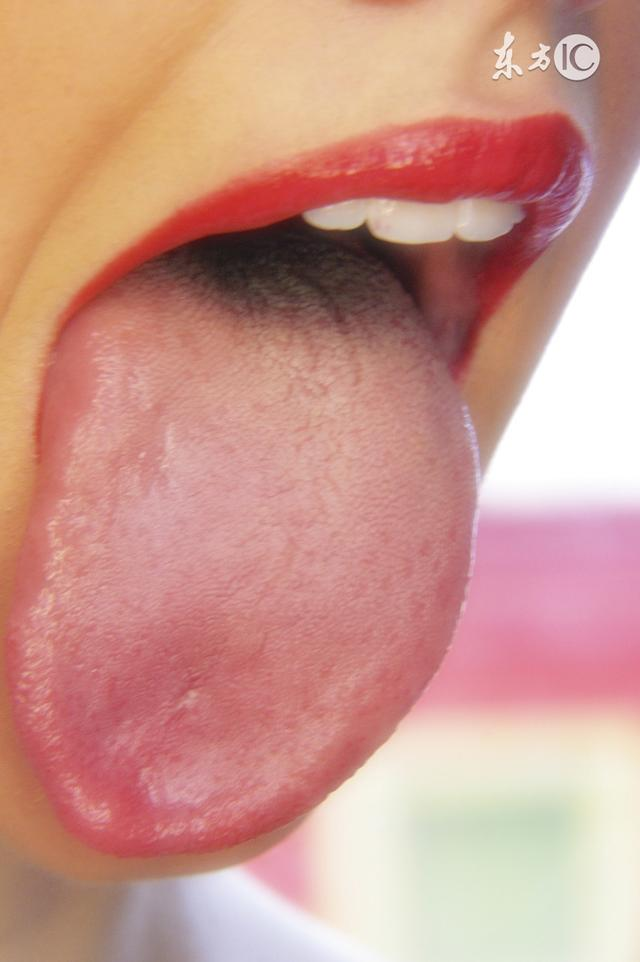baitaishe: (12, 240, 477, 856)
hongshe: (12, 240, 477, 856)
